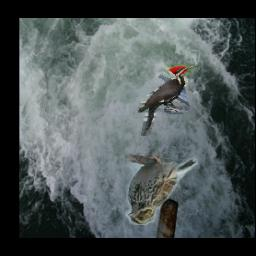Sparrow: (124, 153, 197, 225)
Woodpecker: (137, 65, 197, 137)
